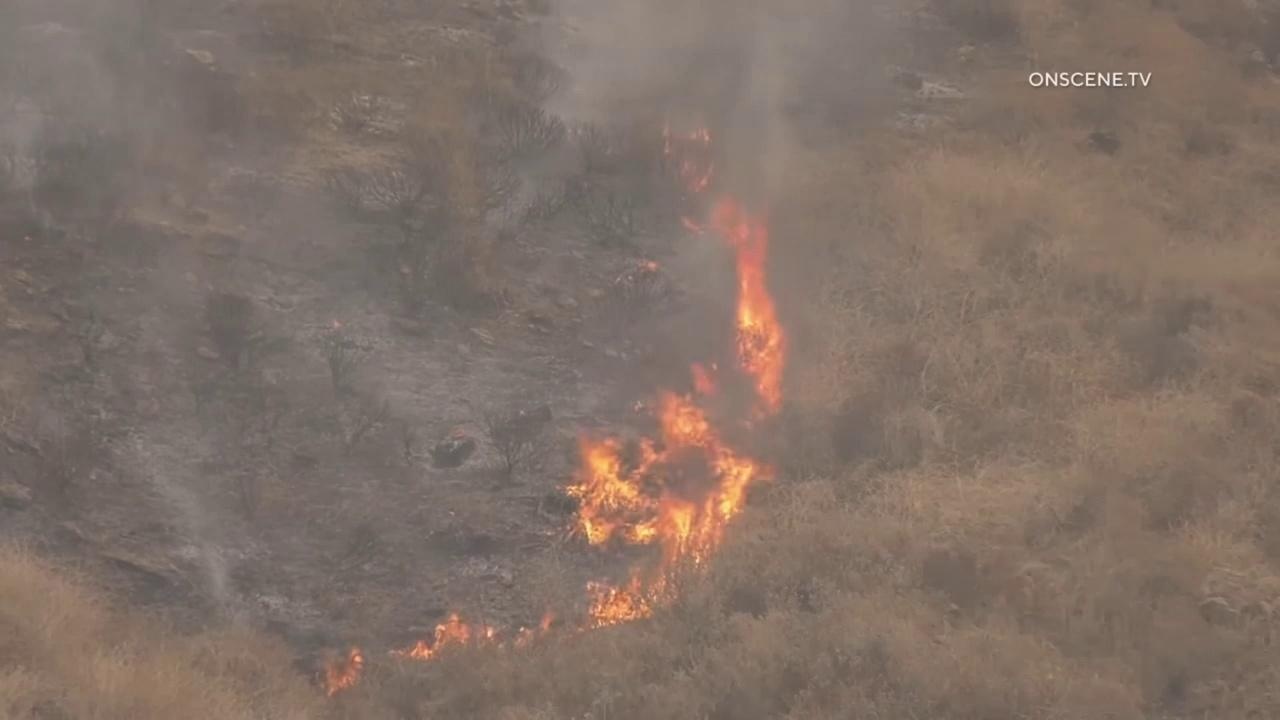fire: (565, 200, 787, 635), (385, 613, 473, 661), (320, 645, 364, 702), (510, 610, 555, 660), (682, 159, 716, 193), (690, 126, 711, 143), (479, 623, 496, 643), (638, 260, 657, 272), (663, 125, 670, 154), (331, 319, 342, 328)
smoke: (0, 0, 955, 622)
